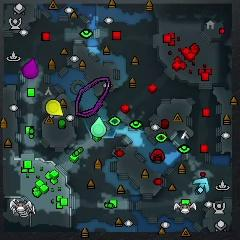p2: (90, 117, 107, 136)
p3: (23, 58, 39, 79)
p4: (46, 99, 63, 116)
x3: (193, 176, 209, 194)
